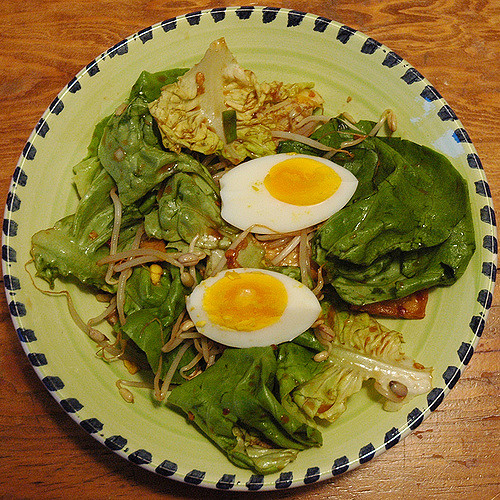chopped lettuce: (137, 336, 404, 432), (354, 139, 469, 307)
fried egg: (211, 151, 366, 235), (179, 270, 327, 344)
